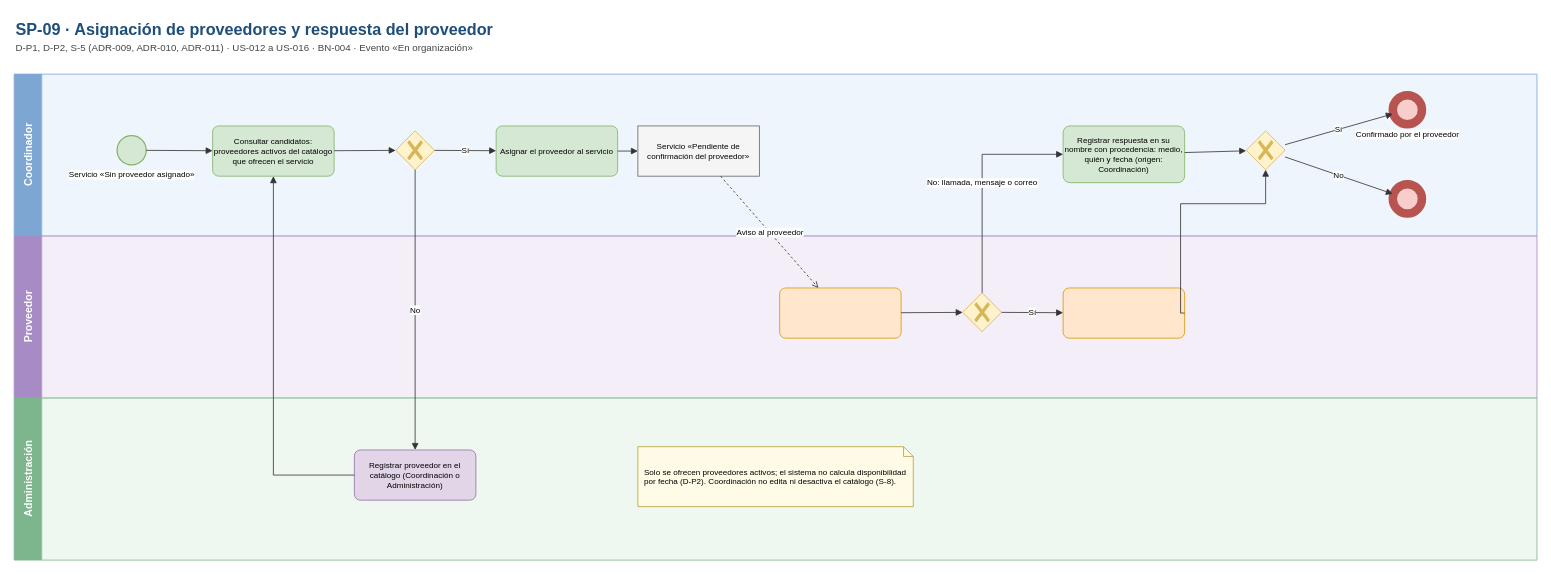
This 1551x574 diagram has some shape labels left out. Each missing label, with the box of its shape:
Consultar «Mis asignaciones» y la información del evento: (779, 287, 901, 338)
Proveedor no disponible → SP-05 Sustitución: (1391, 182, 1423, 214)
Registrar respuesta (origen: Proveedor): (1062, 287, 1185, 338)
¿Disponible?: (1245, 130, 1285, 170)
¿Hay candidato?: (395, 130, 435, 170)
¿Responde por la interfaz?: (962, 292, 1002, 332)
